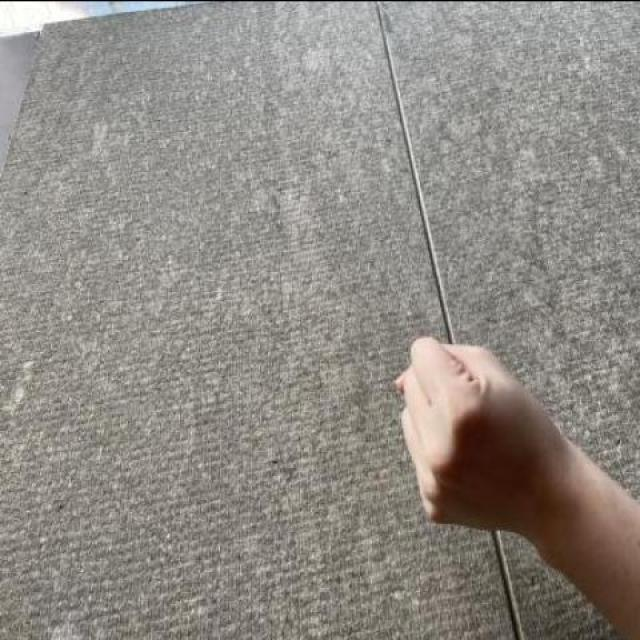Closed Hand: (392, 331, 571, 538)
